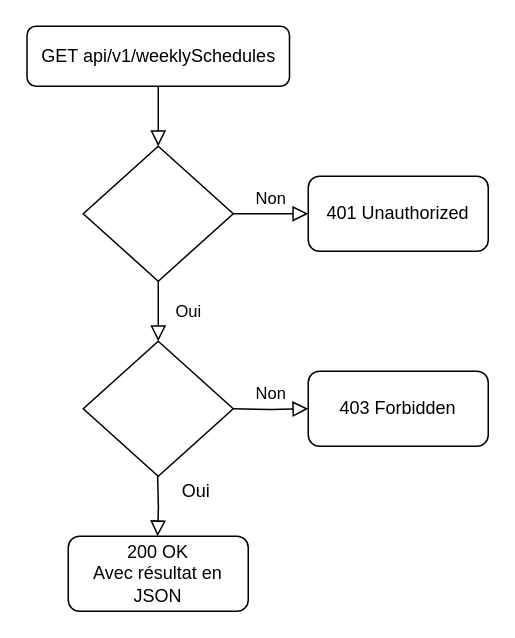
This 515x638 diagram has some shape labels left out. Each missing label, with the centre of its shape:
"Header Authorization présent" goes at point (157, 213).
"Utilisateur administrateur" goes at point (157, 408).
